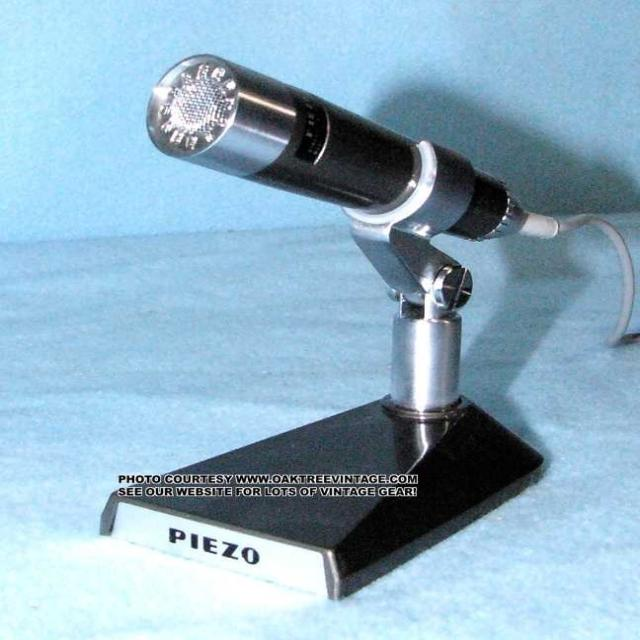microphone: (134, 37, 535, 264)
